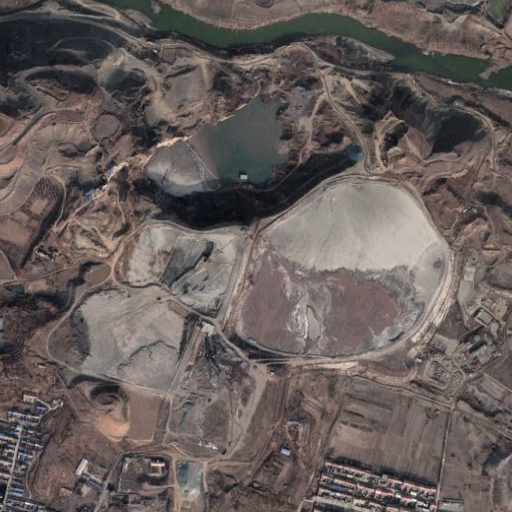tp: (223, 176, 448, 374), (144, 93, 293, 198)
